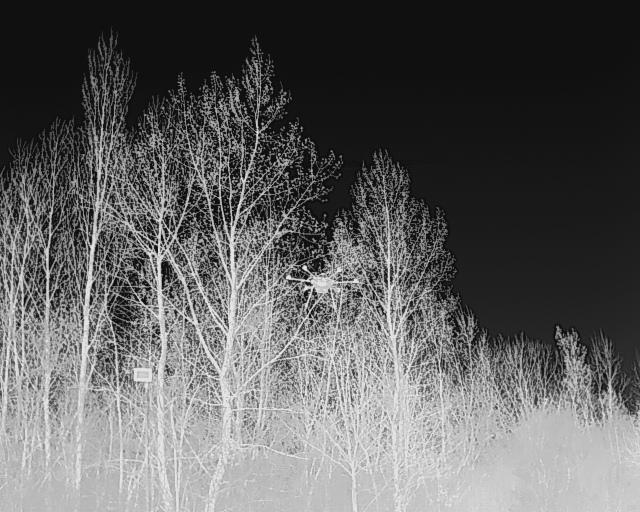drone: (280, 259, 366, 318)
